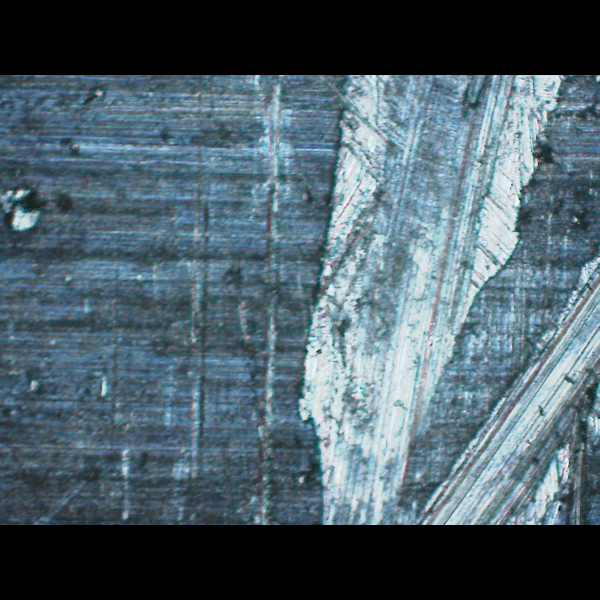d: (284, 75, 599, 522), (0, 178, 70, 241)
